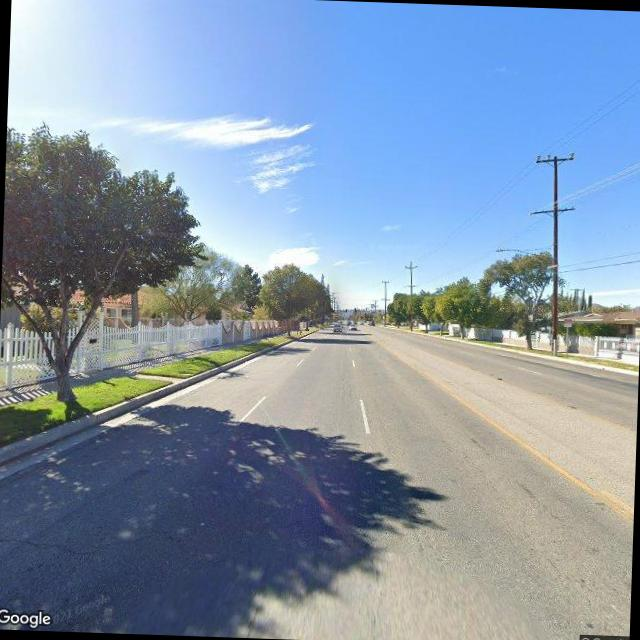crack: (0, 529, 134, 563)
